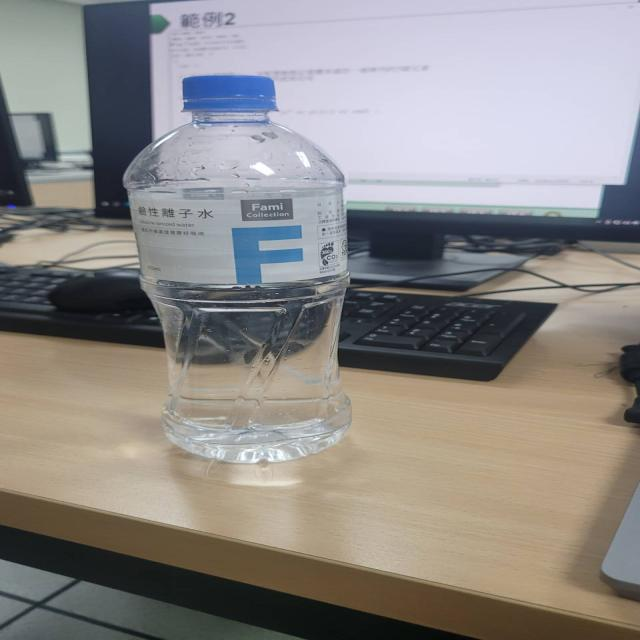PET bottle: (127, 70, 354, 475)
